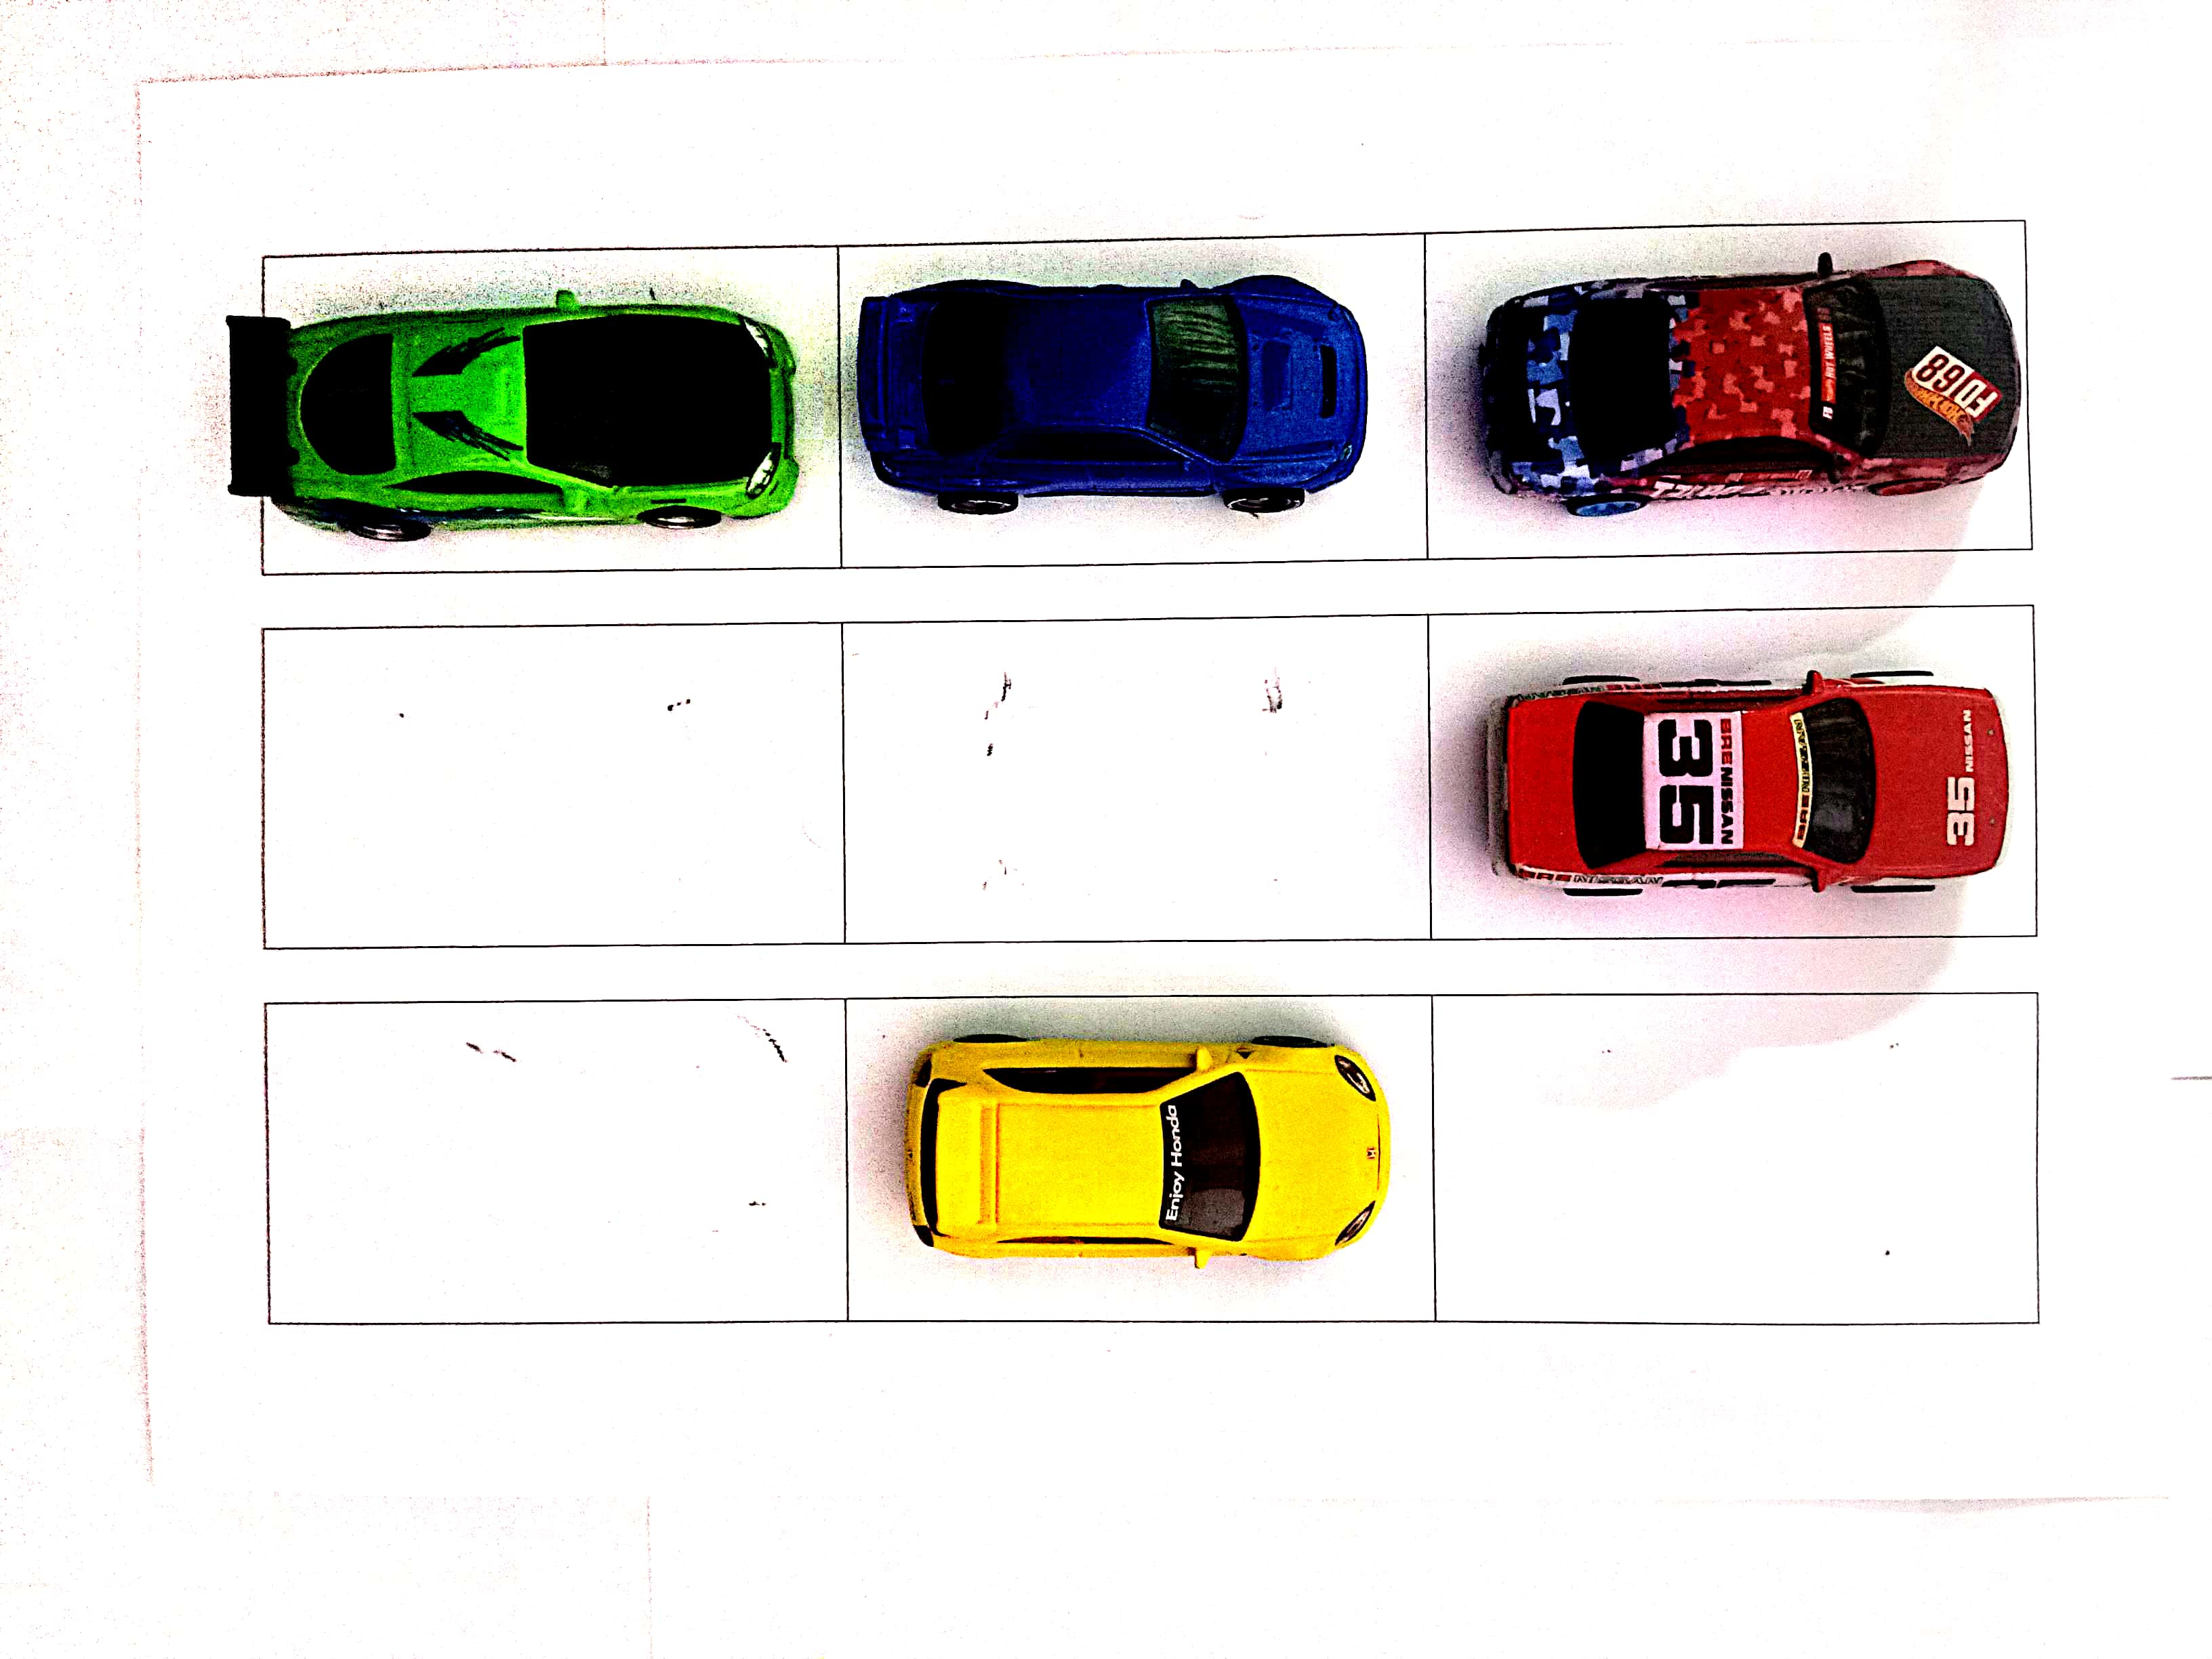Busy: (1432, 610, 2026, 941), (1428, 228, 2024, 558), (845, 235, 1432, 563), (852, 1002, 1423, 1323), (261, 254, 836, 568)
Free: (1433, 993, 2033, 1319), (268, 1002, 845, 1324), (836, 627, 1428, 941), (261, 631, 843, 941)
